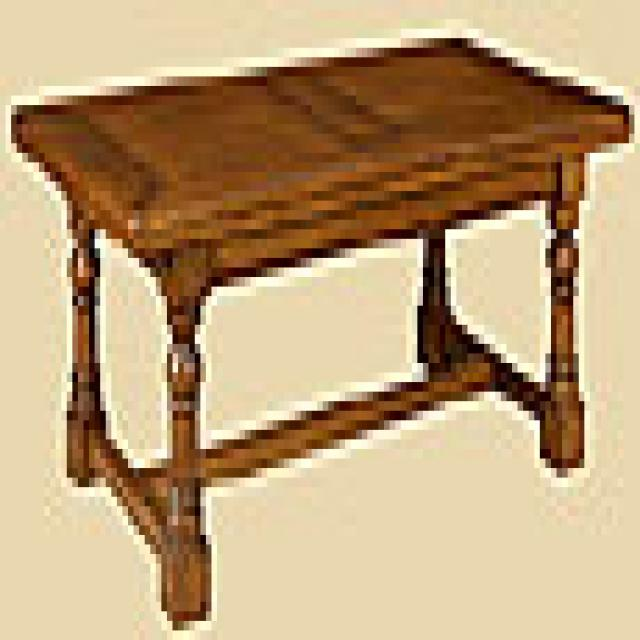table: (5, 26, 636, 634)
